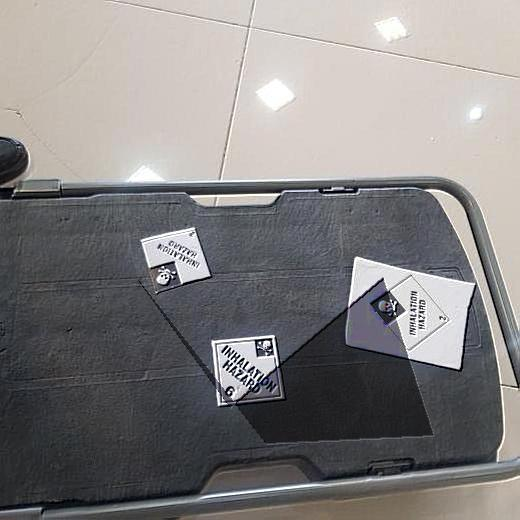poison: (371, 274, 453, 352), (213, 335, 284, 408), (139, 227, 215, 294)
